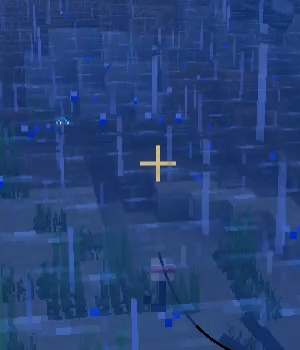down: (144, 249, 177, 312)
